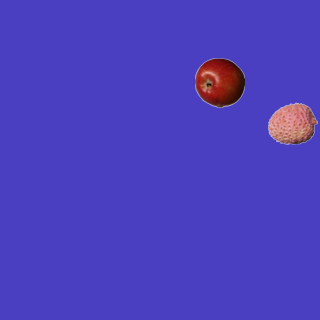Apple Braeburn: (194, 57, 244, 107)
Lychee: (267, 98, 317, 148)
